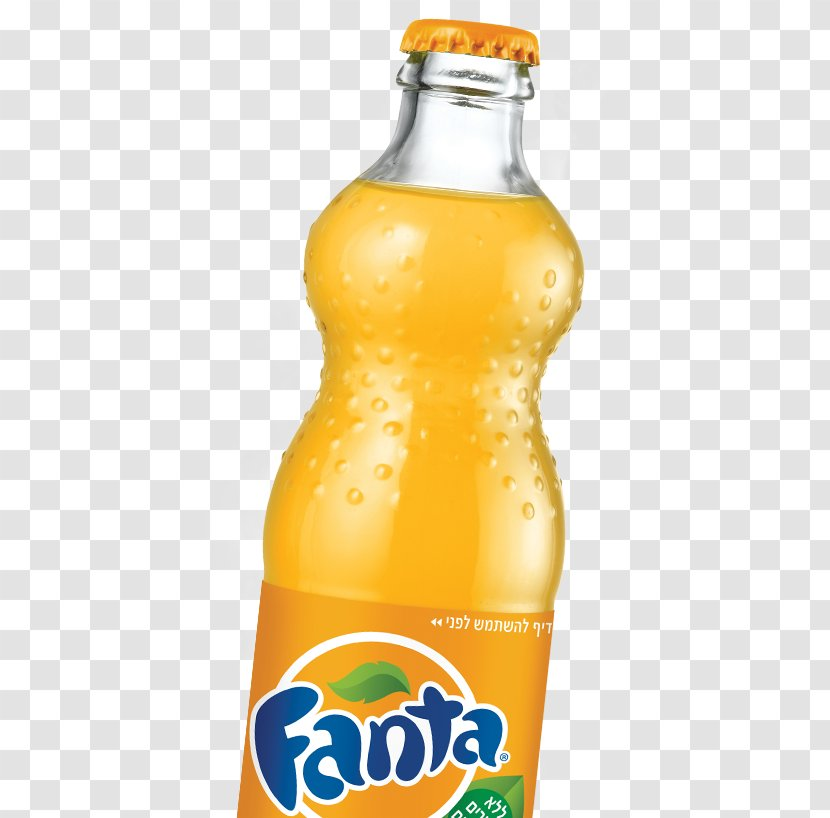fanta_bottle: (236, 21, 587, 818)
